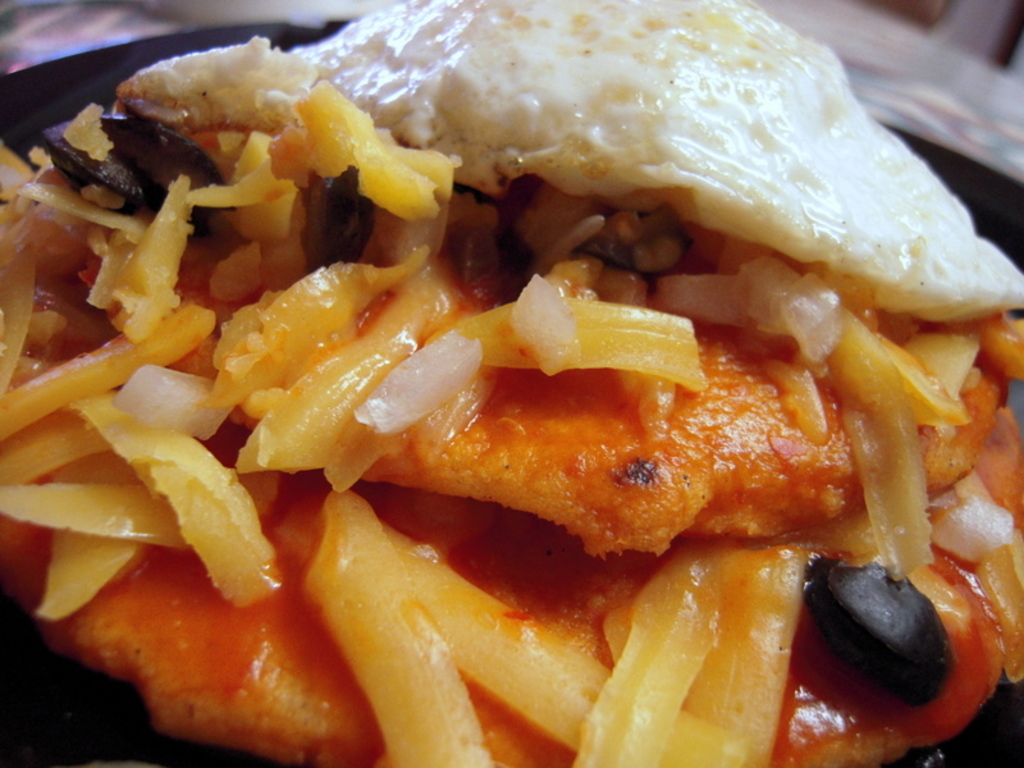French fries: (0, 71, 1022, 766)
